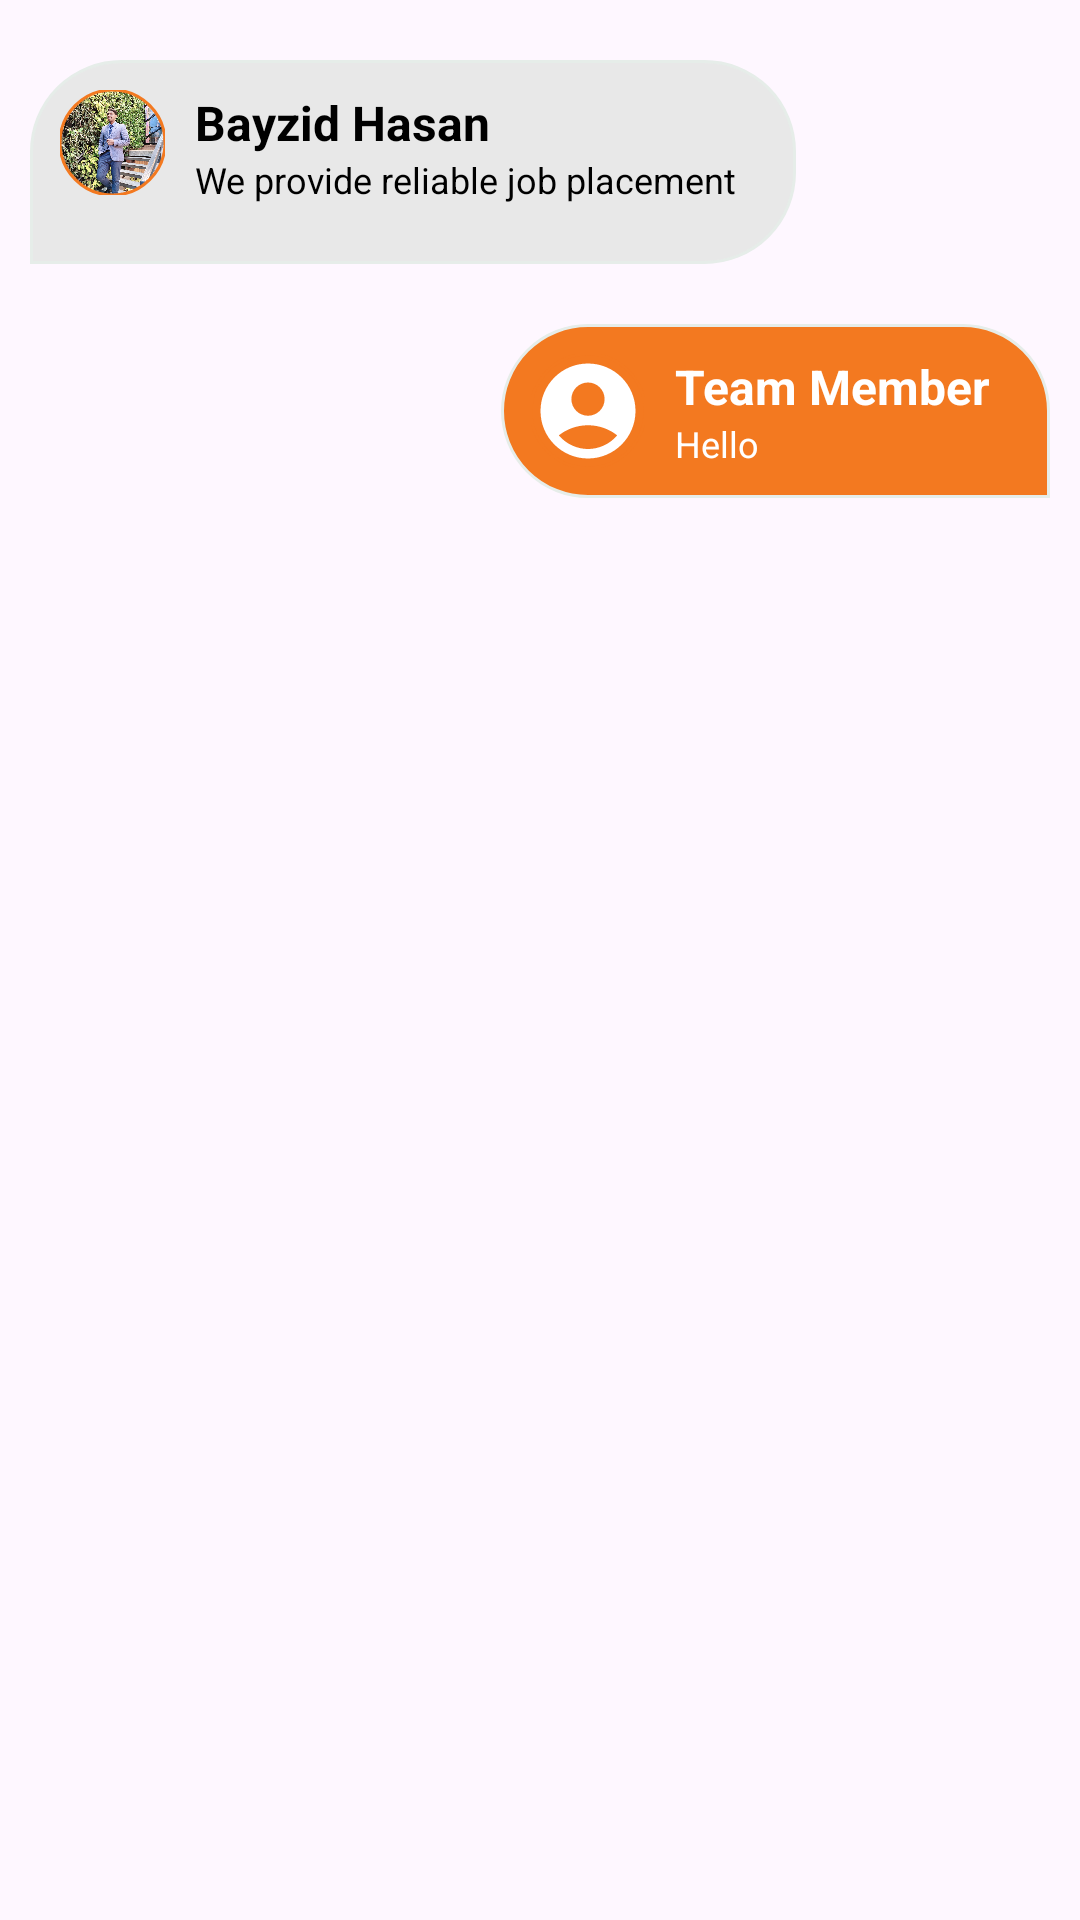

Named icons in this screenshot (1080x1920) and their bounding boxes, (x1, y1, x2, y2):
account circle: (540, 363, 636, 459)
